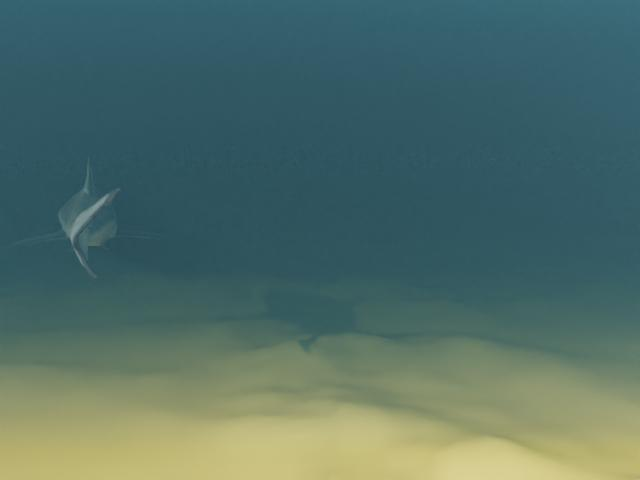Carribean Shark.001: (0, 155, 182, 278)
